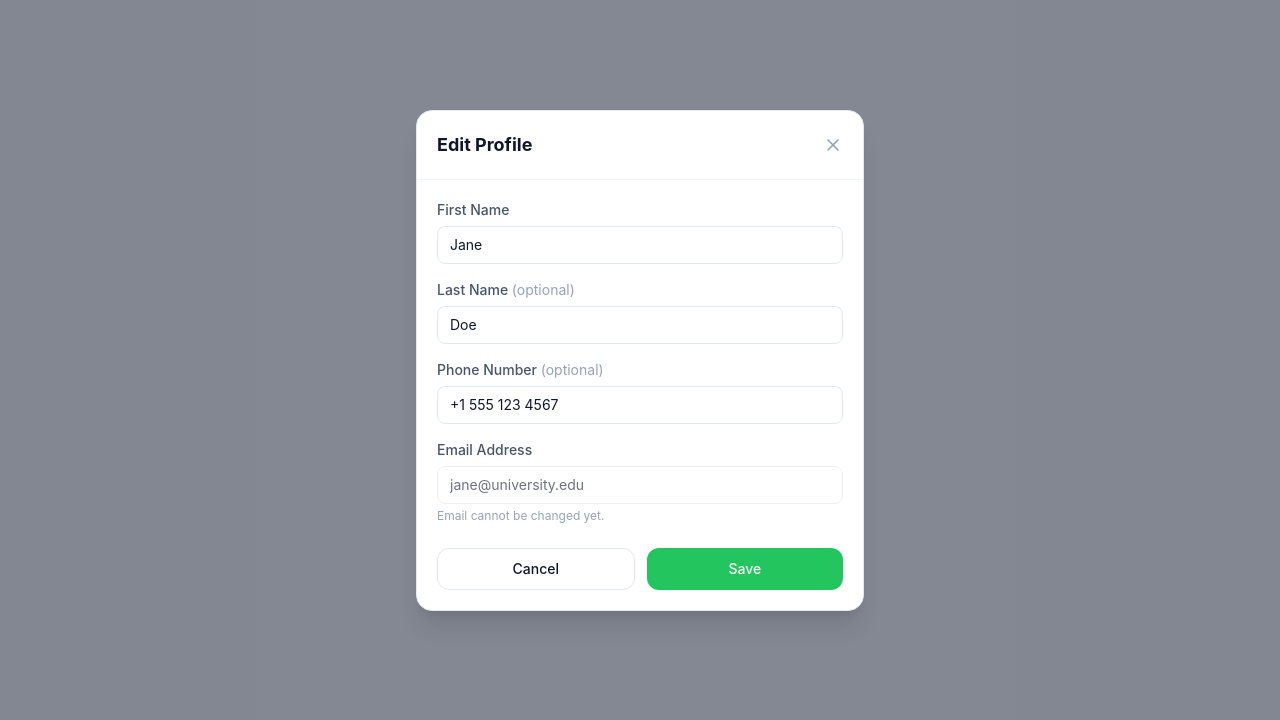
Test: EditProfileModal › blocks submit when first name is cleared
Step 1. Clear the field labelled "First Name" → (640, 244), box x1=437 y1=226 x2=843 y2=264
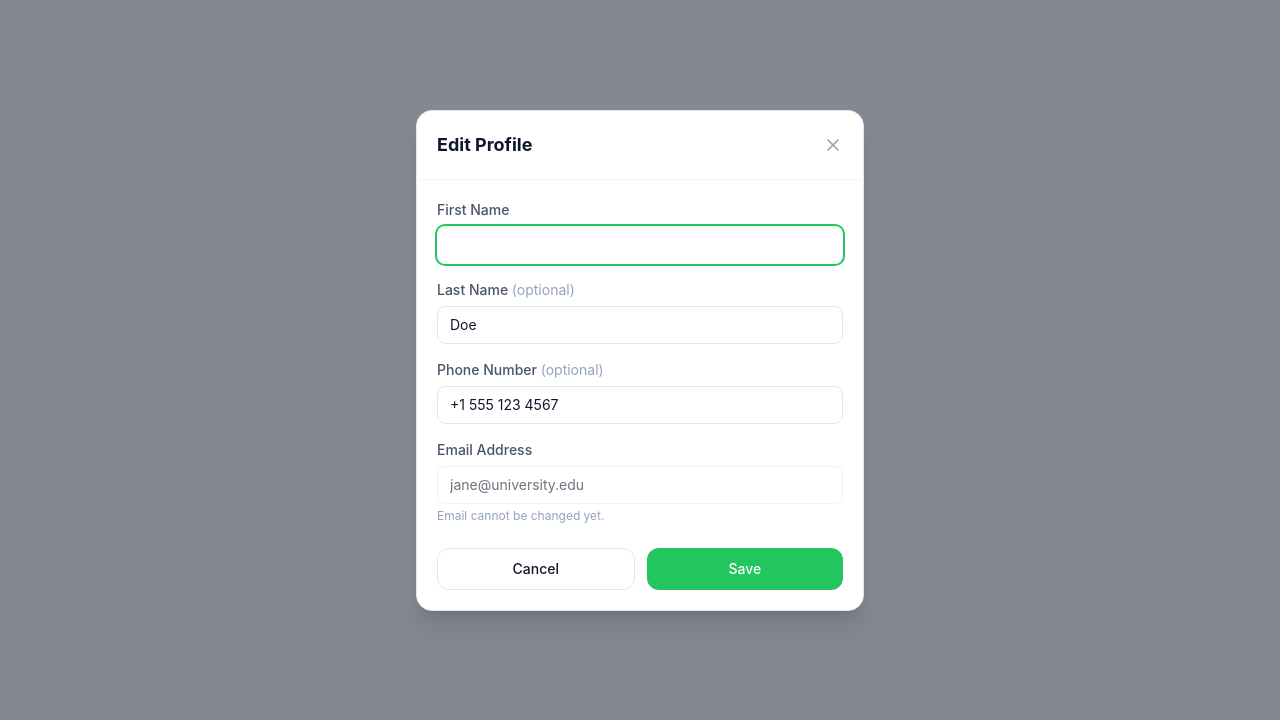
Step 2. Click the button "Save" → (745, 568), box x1=647 y1=548 x2=843 y2=590
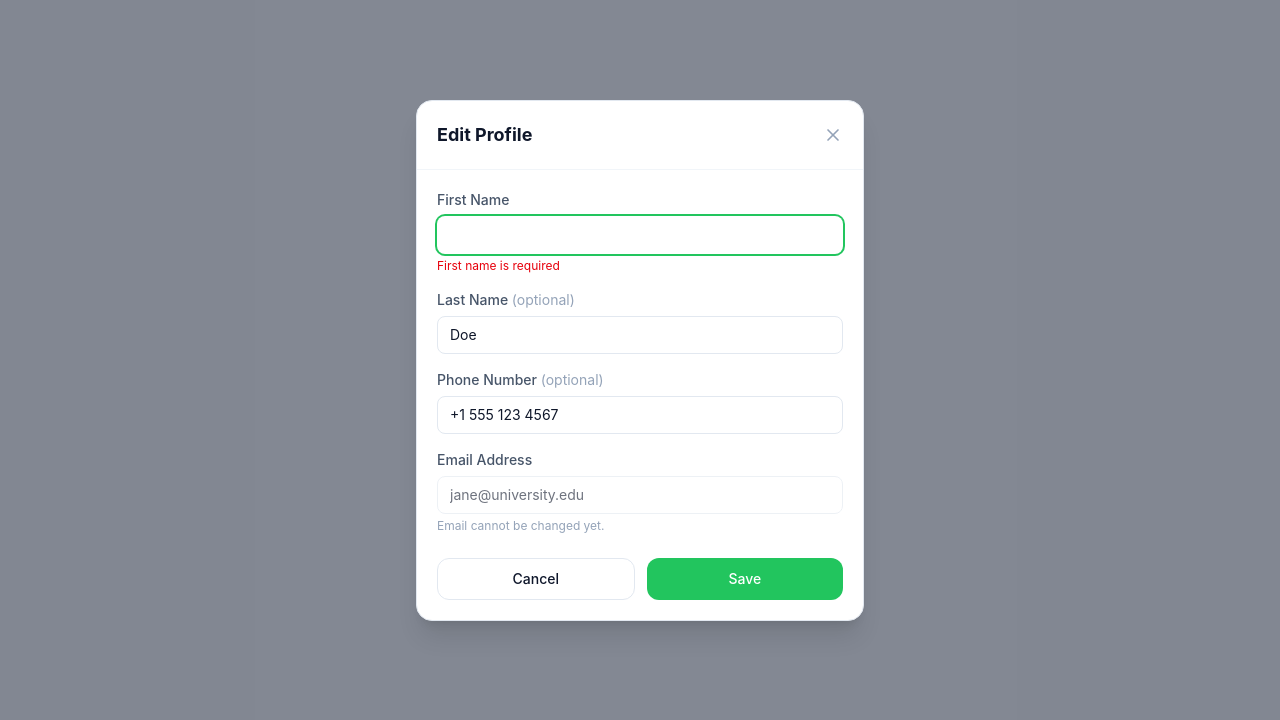
Result: the text "First name is required" is shown at x1=437 y1=258 x2=560 y2=272
